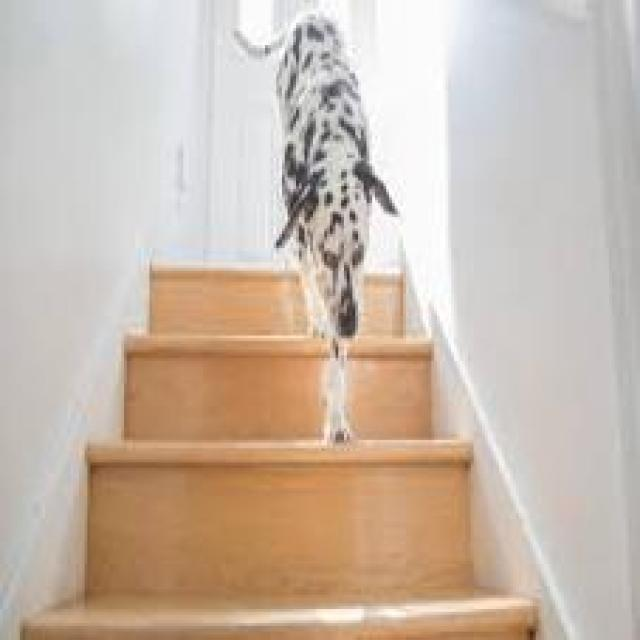stair: (72, 331, 478, 584)
